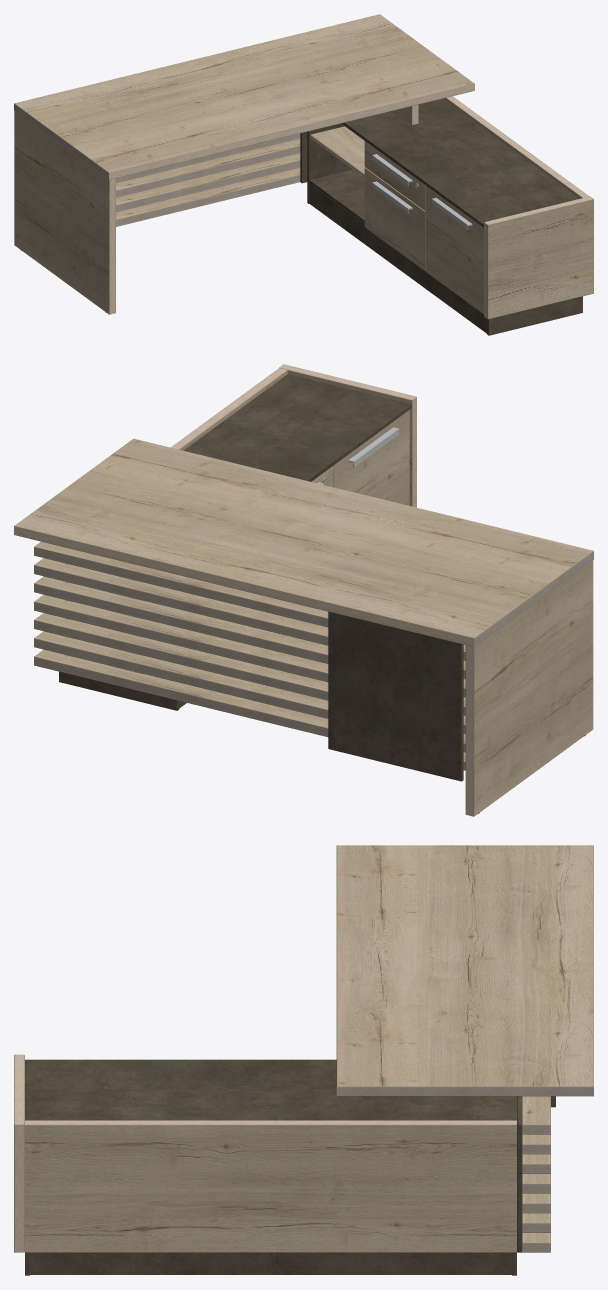
3 renders of one model, top to bottom at view 1: azimuth 30°, elevation 25°; view 2: azimuth 150°, elevation 25°; view 3: azimuth 270°, elevation 25°, orthographic. The views are drawn at different scales.
Visible parts, largest first — view 1: Box1578995149, Line1789532200, Line1789532211, Line1789532197, Line1789532193, Line1789532195, Line1789532187, Line1789532205, Line1789532206, Line1789532207, Line1789532186, Line1789532184 (+5 smaller); view 2: Box1578995149, Line1789532200, Line1789532201, Line1789532211, Line1789532204, Line1789532205, Line1789532203, Line1789532206, Line1789532207, Line1789532208, Line1789532209, Line1789532193 (+3 smaller); view 3: Line1789532198, Box1578995149, Line1789532211, Line1789532188, Line1789532197, Line1789532209, Line1789532199, Line1789532205, Line1789532208, Line1789532203, Line1789532204, Line1789532206 (+1 smaller).
Part boxes in pixels (x1,y1,x2,y2): Box1578995149: (14,14,474,179); Line1789532200: (14,111,115,314); Line1789532211: (341,98,579,227); Line1789532197: (484,196,593,319); Line1789532193: (425,185,483,313); Line1789532195: (364,167,425,270); Line1789532187: (309,183,487,333); Line1789532205: (116,138,300,197); Line1789532206: (116,153,300,212); Line1789532207: (116,167,300,226); Line1789532186: (309,169,364,223); Line1789532184: (487,296,582,335); Box1578995149: (14,438,593,646); Line1789532200: (465,560,593,816); Line1789532201: (328,611,463,781); Line1789532211: (183,374,411,481); Line1789532204: (34,595,465,715); Line1789532205: (34,613,465,733); Line1789532203: (34,576,465,697); Line1789532206: (34,631,465,752); Line1789532207: (34,649,465,770); Line1789532208: (34,558,465,679); Line1789532209: (34,541,465,660); Line1789532193: (333,410,409,505); Line1789532198: (25,1120,516,1252); Box1578995149: (336,845,593,1096); Line1789532211: (25,1059,516,1120); Line1789532188: (30,1252,511,1274); Line1789532197: (14,1054,24,1252); Line1789532209: (522,1096,550,1134); Line1789532199: (517,1096,522,1252); Line1789532205: (522,1193,550,1213); Line1789532208: (522,1134,550,1154); Line1789532203: (522,1154,550,1173); Line1789532204: (522,1174,550,1193); Line1789532206: (522,1213,550,1232).
Size of the model in its own units: 2 by 0.75 by 2.03.
Materials: 8 (6 with a texture image).
